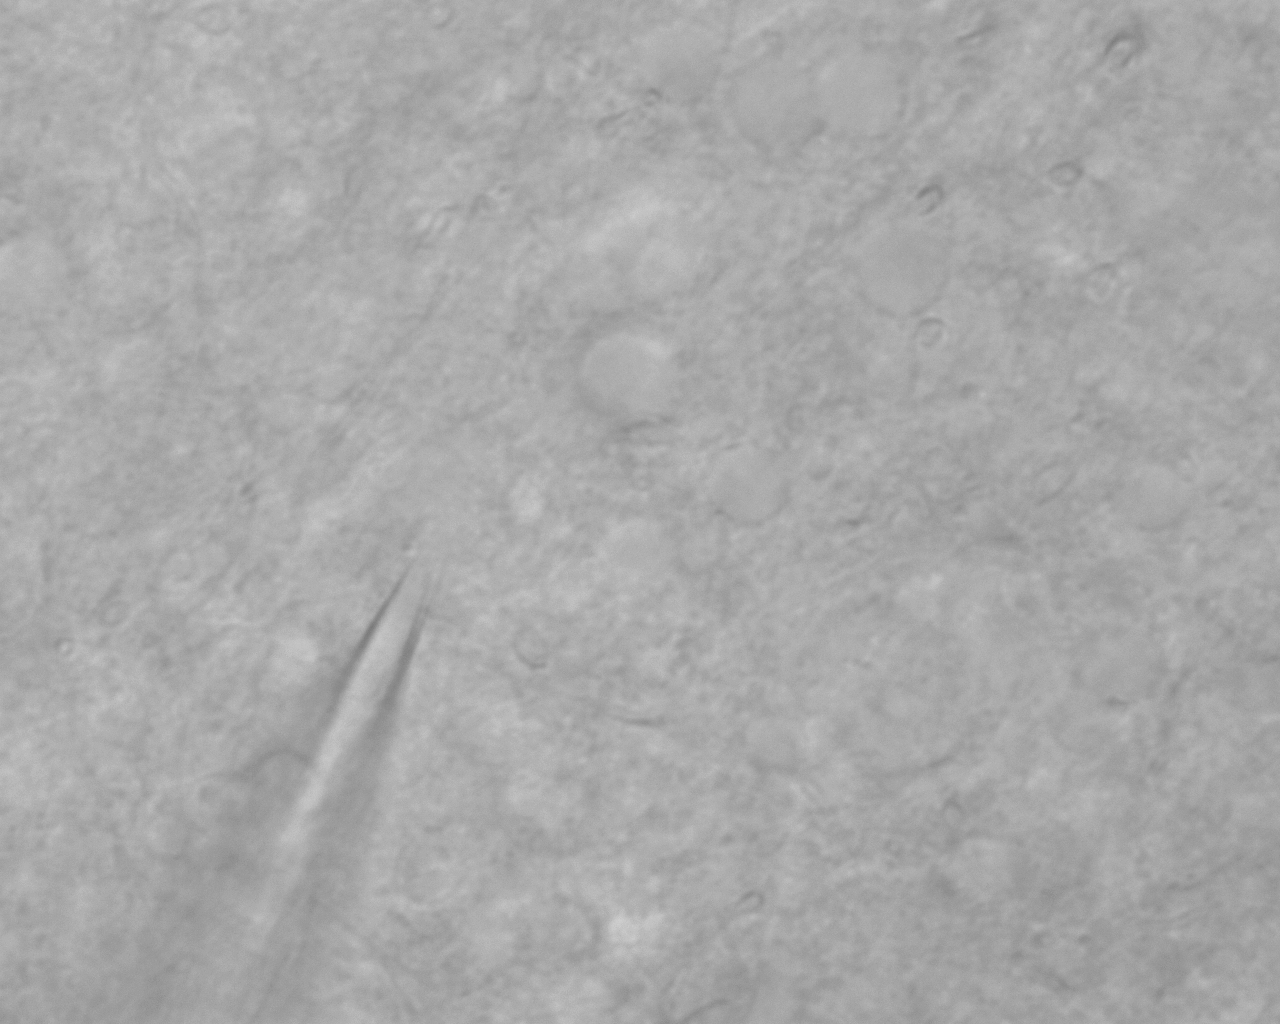neuron: (561, 323, 695, 434), (837, 211, 960, 322)
